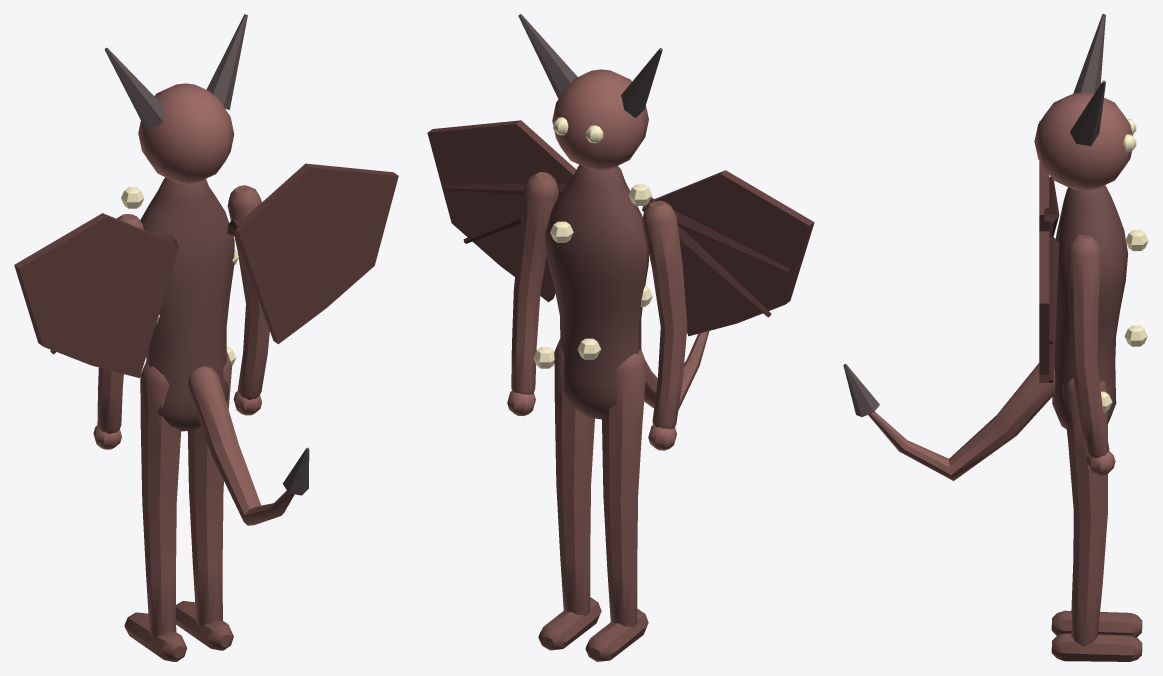
File: magma_imp.gltf
3 views of the same model, side by side, from view 1: azimuth 30°, elevation 25°; view 2: azimuth 150°, elevation 25°; view 3: azimuth 270°, elevation 25° (orthographic). The views are drawn at different scales.
Parts seen in each view (by area): view 1: Body, FlapR, FlapL, SwingA, SwingB, ArmR, ArmL; view 2: Body, FlapL, FlapR, SwingA, SwingB, ArmL, ArmR; view 3: Body, SwingB, ArmR, FlapR, SwingA, FlapL.
Part boxes in pixels (x1=…): Body: x1=104, y1=14, x2=309, y2=525; FlapR: x1=227, y1=163, x2=398, y2=344; FlapL: x1=14, y1=213, x2=179, y2=377; SwingA: x1=124, y1=361, x2=186, y2=661; SwingB: x1=176, y1=351, x2=233, y2=650; ArmR: x1=227, y1=185, x2=269, y2=415; ArmL: x1=93, y1=214, x2=143, y2=449; Body: x1=518, y1=14, x2=709, y2=419; FlapL: x1=642, y1=170, x2=814, y2=336; FlapR: x1=427, y1=120, x2=576, y2=302; SwingA: x1=585, y1=350, x2=648, y2=661; SwingB: x1=538, y1=339, x2=601, y2=650; ArmL: x1=642, y1=200, x2=687, y2=450; ArmR: x1=507, y1=172, x2=558, y2=416; Body: x1=843, y1=14, x2=1148, y2=480; SwingB: x1=1051, y1=378, x2=1142, y2=661; ArmR: x1=1067, y1=235, x2=1115, y2=476; FlapR: x1=1039, y1=231, x2=1059, y2=382; SwingA: x1=1051, y1=424, x2=1142, y2=637; FlapL: x1=1039, y1=121, x2=1059, y2=237.
Bounding box in the file's own units: 1.3 × 2 × 0.9178.
